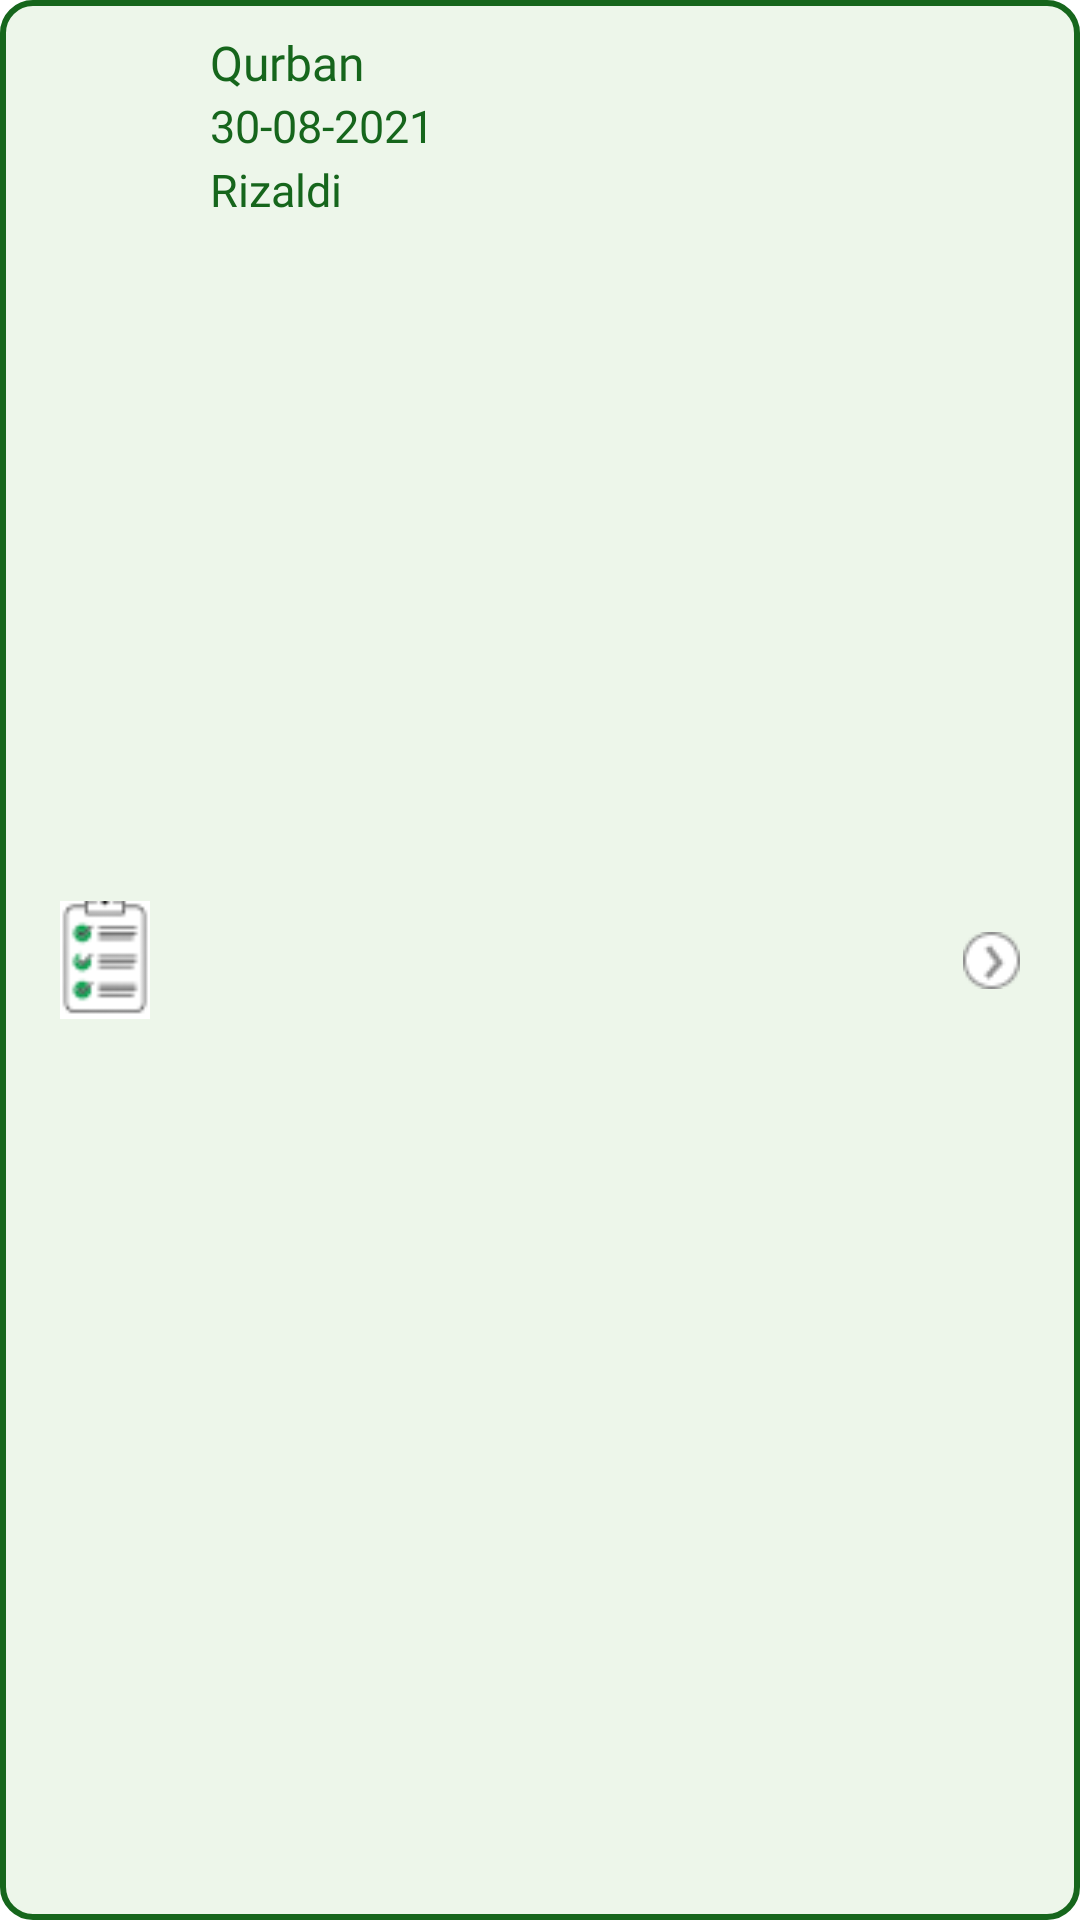

Screen size 1080×1920. Icon name, then its center in pixels as [x,y]:
circle arrow: [991,960]
list kegiatan: [105,960]
